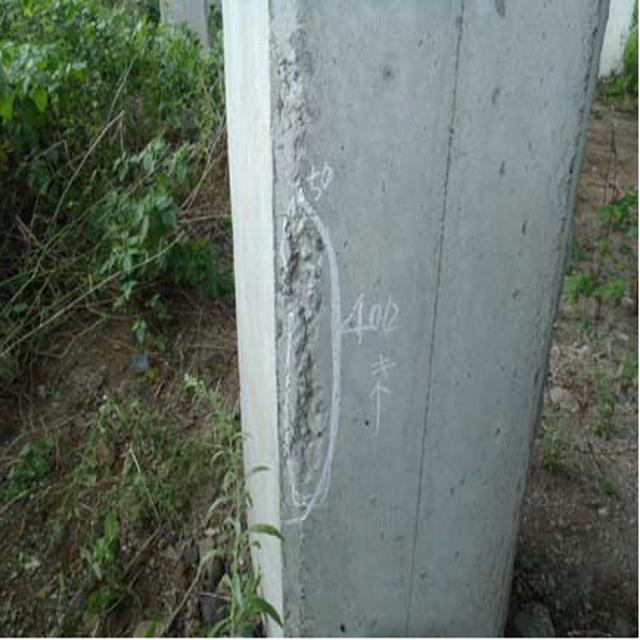spalling: (261, 153, 360, 508)
